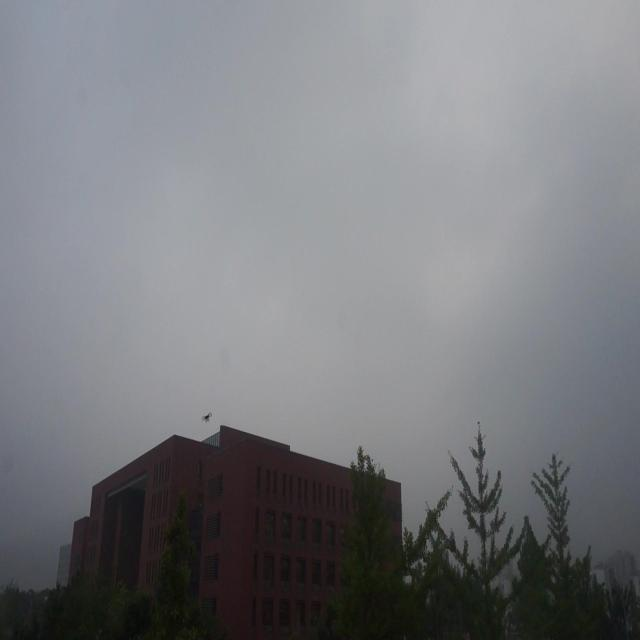drone: (200, 409, 214, 426)
